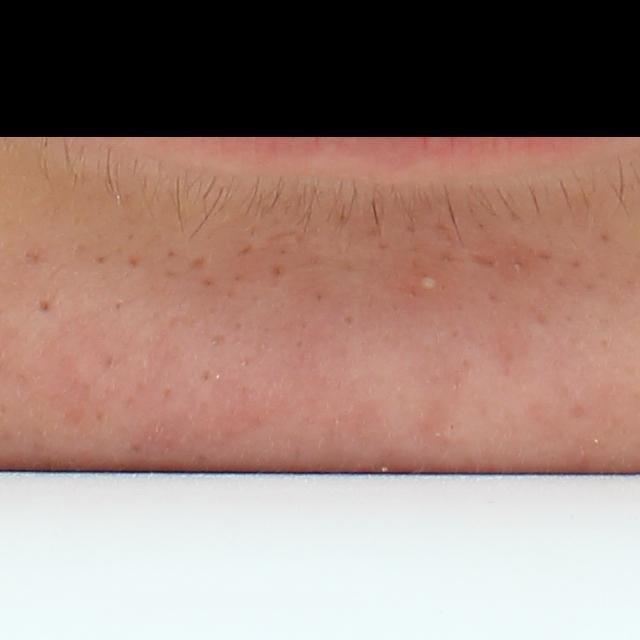comedo: (37, 297, 57, 317)
pustule: (416, 273, 441, 296)
